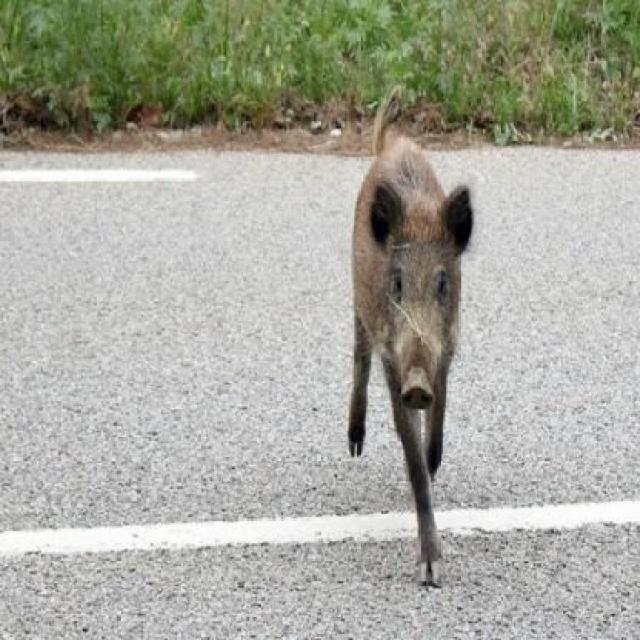wildboar: (344, 88, 474, 589)
